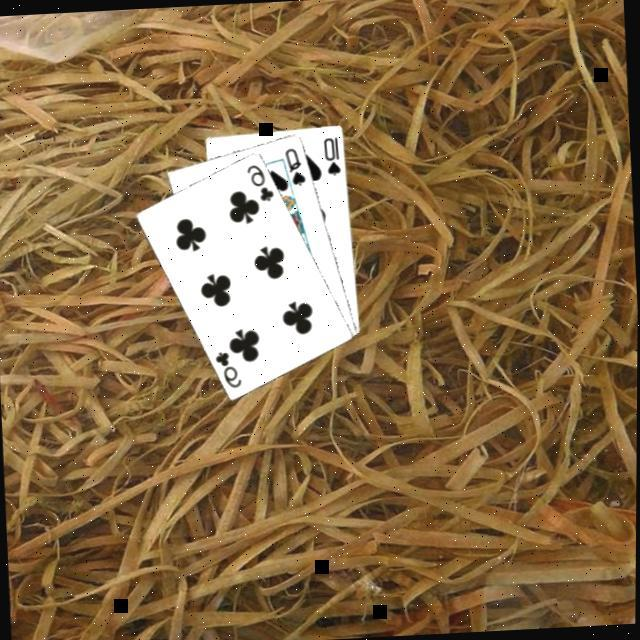10S: (322, 132, 346, 178)
6C: (245, 159, 279, 205), (214, 346, 248, 391)
QS: (284, 143, 311, 188)
